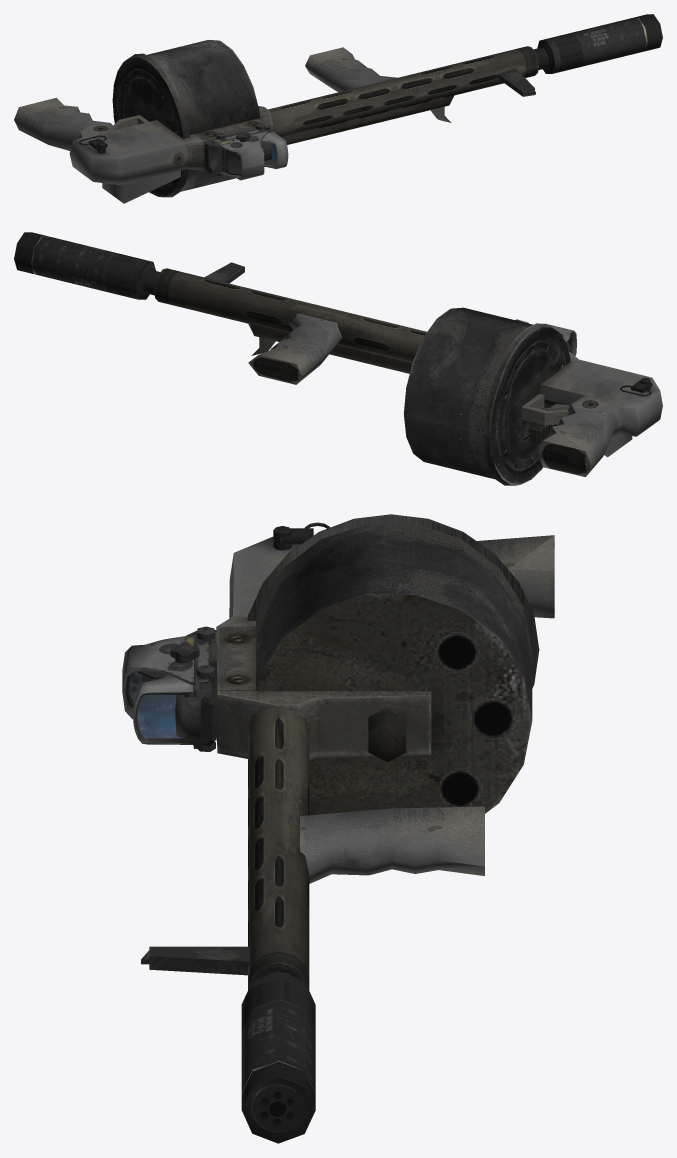
Rendered from weapon_striker_red_tiger_LOD0.obj.
3 renders of one model, top to bottom at view 1: azimuth 30°, elevation 25°; view 2: azimuth 150°, elevation 25°; view 3: azimuth 270°, elevation 25°, orthographic. The views are drawn at different scales.
Visible parts, largest first — view 1: mtl_weapon_striker_red_tiger, mtl_weapon_suppressor_b, mtl_weapon_striker_foregrip, mtl_weapon_eotech_2_red_tiger, mtl_weapon_red_dot_sight_red_tiger, mtl_weapon_striker_iron_sight; view 2: mtl_weapon_striker_red_tiger, mtl_weapon_suppressor_b, mtl_weapon_striker_foregrip, mtl_weapon_striker_iron_sight; view 3: mtl_weapon_striker_red_tiger, mtl_weapon_striker_foregrip, mtl_weapon_suppressor_b, mtl_weapon_eotech_2_red_tiger, mtl_weapon_striker_iron_sight, mtl_weapon_red_dot_sight_red_tiger, mtl_weapon_reflex_lens.
Part boxes in pixels (x1=…): mtl_weapon_striker_red_tiger: x1=14, y1=40, x2=548, y2=203; mtl_weapon_suppressor_b: x1=537, y1=14, x2=662, y2=73; mtl_weapon_striker_foregrip: x1=305, y1=47, x2=397, y2=92; mtl_weapon_eotech_2_red_tiger: x1=214, y1=129, x2=272, y2=180; mtl_weapon_red_dot_sight_red_tiger: x1=211, y1=123, x2=288, y2=176; mtl_weapon_striker_iron_sight: x1=498, y1=68, x2=535, y2=96; mtl_weapon_striker_red_tiger: x1=142, y1=268, x2=662, y2=485; mtl_weapon_suppressor_b: x1=14, y1=232, x2=155, y2=299; mtl_weapon_striker_foregrip: x1=248, y1=313, x2=341, y2=384; mtl_weapon_striker_iron_sight: x1=204, y1=262, x2=244, y2=283; mtl_weapon_striker_red_tiger: x1=138, y1=514, x2=554, y2=989; mtl_weapon_striker_foregrip: x1=300, y1=806, x2=484, y2=883; mtl_weapon_suppressor_b: x1=241, y1=971, x2=315, y2=1143; mtl_weapon_eotech_2_red_tiger: x1=122, y1=635, x2=216, y2=740; mtl_weapon_striker_iron_sight: x1=141, y1=946, x2=249, y2=975; mtl_weapon_red_dot_sight_red_tiger: x1=133, y1=626, x2=215, y2=751; mtl_weapon_reflex_lens: x1=137, y1=694, x2=180, y2=738.
Bounding box in the file's own units: 80.65 × 18.13 × 26.45.
